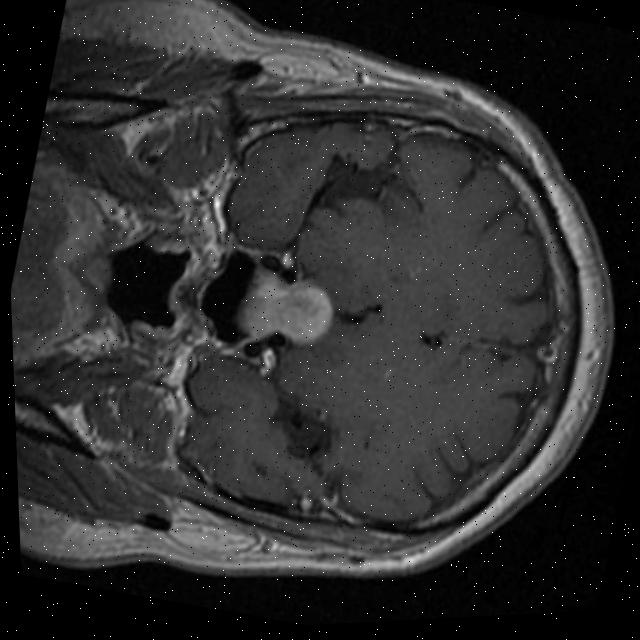Pituitary: (230, 260, 343, 356)
